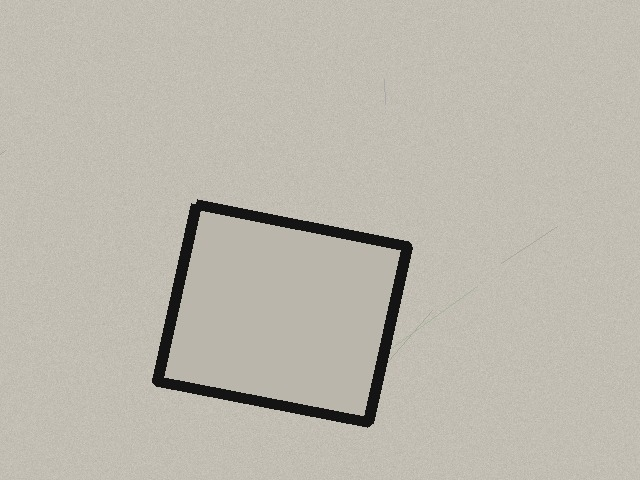parking_area: (157, 204, 407, 422)
